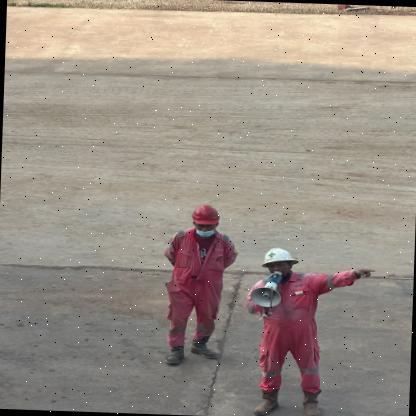bota: (251, 386, 283, 416), (190, 334, 222, 362), (297, 390, 330, 416), (161, 344, 189, 366)
